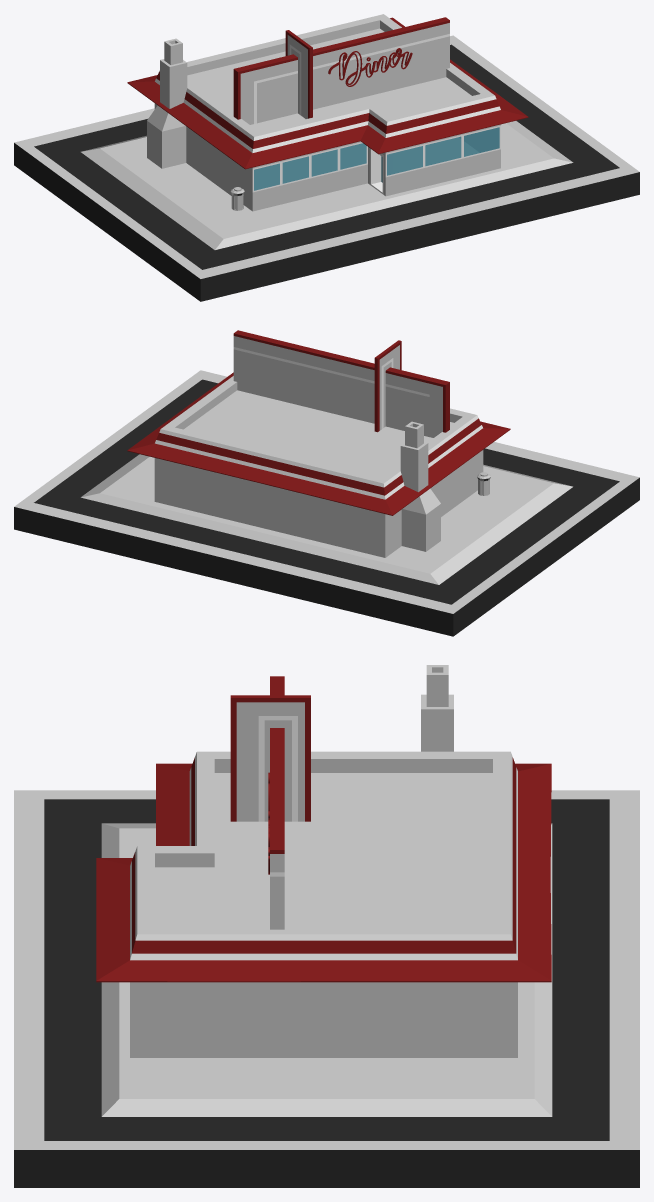
Rendered from Diner_1264.gltf.
3 renders of one model, top to bottom at view 1: azimuth 30°, elevation 25°; view 2: azimuth 150°, elevation 25°; view 3: azimuth 270°, elevation 25°, orthographic. The views are drawn at different scales.
Visible parts, largest first — view 1: node-0; view 2: node-0; view 3: node-0.
Boxes of the visible parts, x1,y1,x2,y2 form: node-0: (14,14,639,301); node-0: (14,330,639,636); node-0: (14,665,639,1187).
Size of the model in its own units: 301 by 107 by 221.
